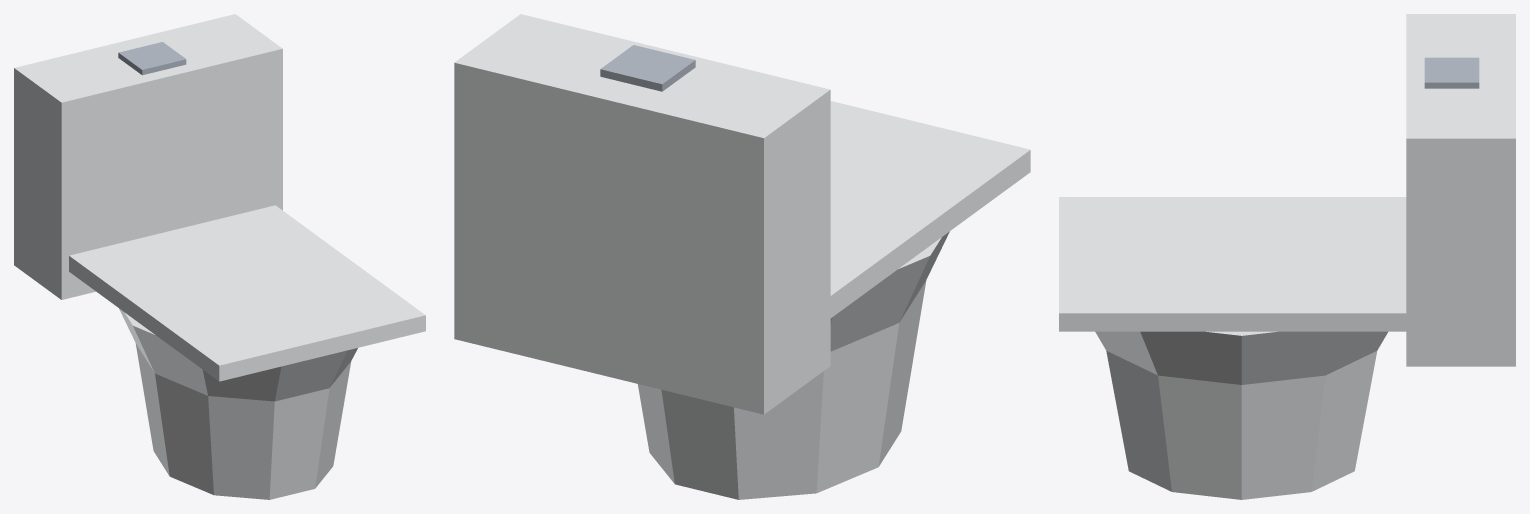
The model's file is toilet.glb.
3 views of the same model, side by side, from view 1: azimuth 30°, elevation 25°; view 2: azimuth 150°, elevation 25°; view 3: azimuth 270°, elevation 25° (orthographic). The views are drawn at different scales.
Parts seen in each view (by area): view 1: toilet; view 2: toilet; view 3: toilet.
Boxes of the visible parts, x1,y1,x2,y2 form: toilet: [14, 14, 425, 499]; toilet: [454, 14, 1030, 499]; toilet: [1059, 14, 1515, 499].
Bounding box in the file's own units: 0.31 × 0.45 × 0.48.
Materials: 1 (1 with a texture image).
